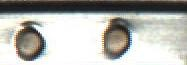joints: (8, 20, 48, 62), (99, 16, 135, 60)
